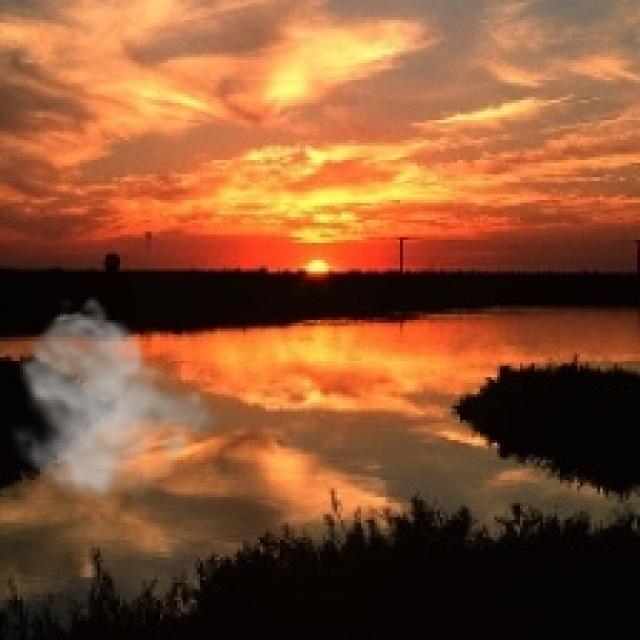Smoke: (0, 294, 226, 509)
